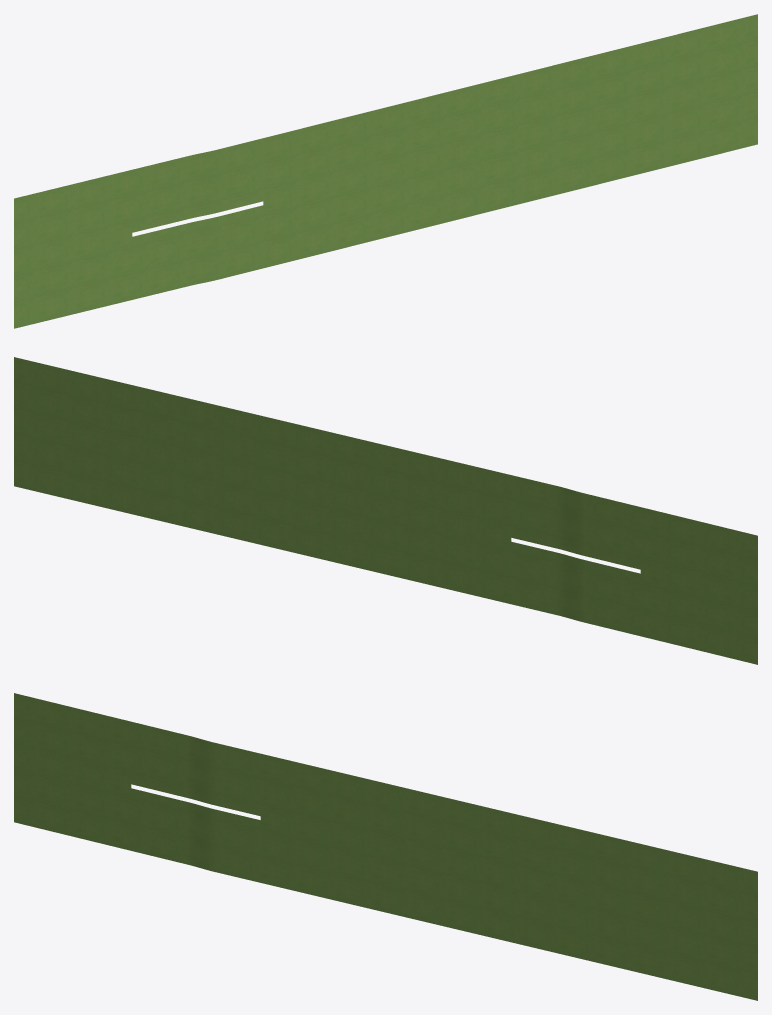
The model's file is terrain.obj.
The picture shows the model from 3 angles, top to bottom: view 1: azimuth 30°, elevation 25°; view 2: azimuth 150°, elevation 25°; view 3: azimuth 330°, elevation 25°; orthographic projection.
Visible parts, largest first — view 1: 9_-_Default; view 2: 9_-_Default; view 3: 9_-_Default.
Part boxes in pixels (box(x1,y1,x2,y2)): 9_-_Default: box(14, 14, 757, 328); 9_-_Default: box(14, 357, 757, 664); 9_-_Default: box(14, 693, 757, 1000).
Size of the model in its own units: 6000 by 1000 by 51.28.
Materials: 1 (1 with a texture image).
